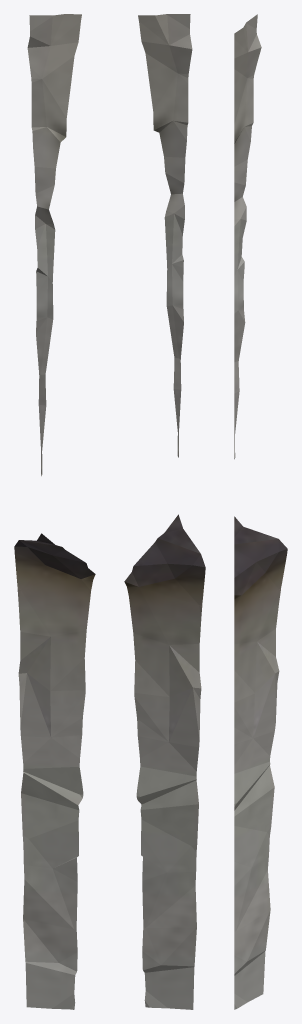
3 renders of one model, left to right at view 1: azimuth 30°, elevation 25°; view 2: azimuth 210°, elevation 25°; view 3: azimuth 270°, elevation 25°, orthographic.
Size of the model in its own units: 0.0478 by 0.8374 by 0.0414.
1 material, 1 textured.
